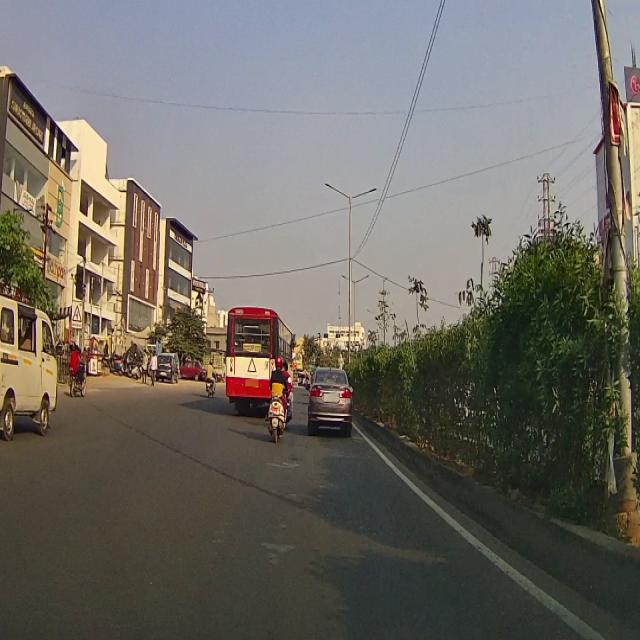bus ahead at: (225, 310, 275, 400)
car ahead at: (2, 294, 61, 434), (305, 365, 355, 443)
motorcycle ahead at: (264, 354, 290, 450)
